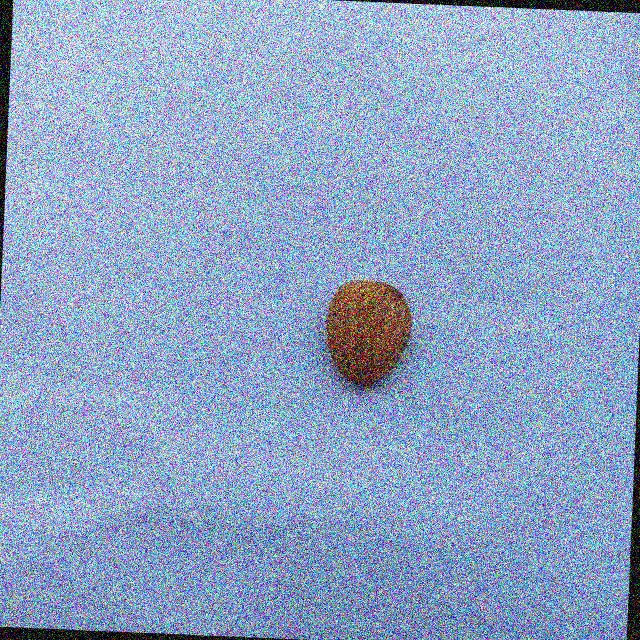grade1: (314, 272, 420, 397)
